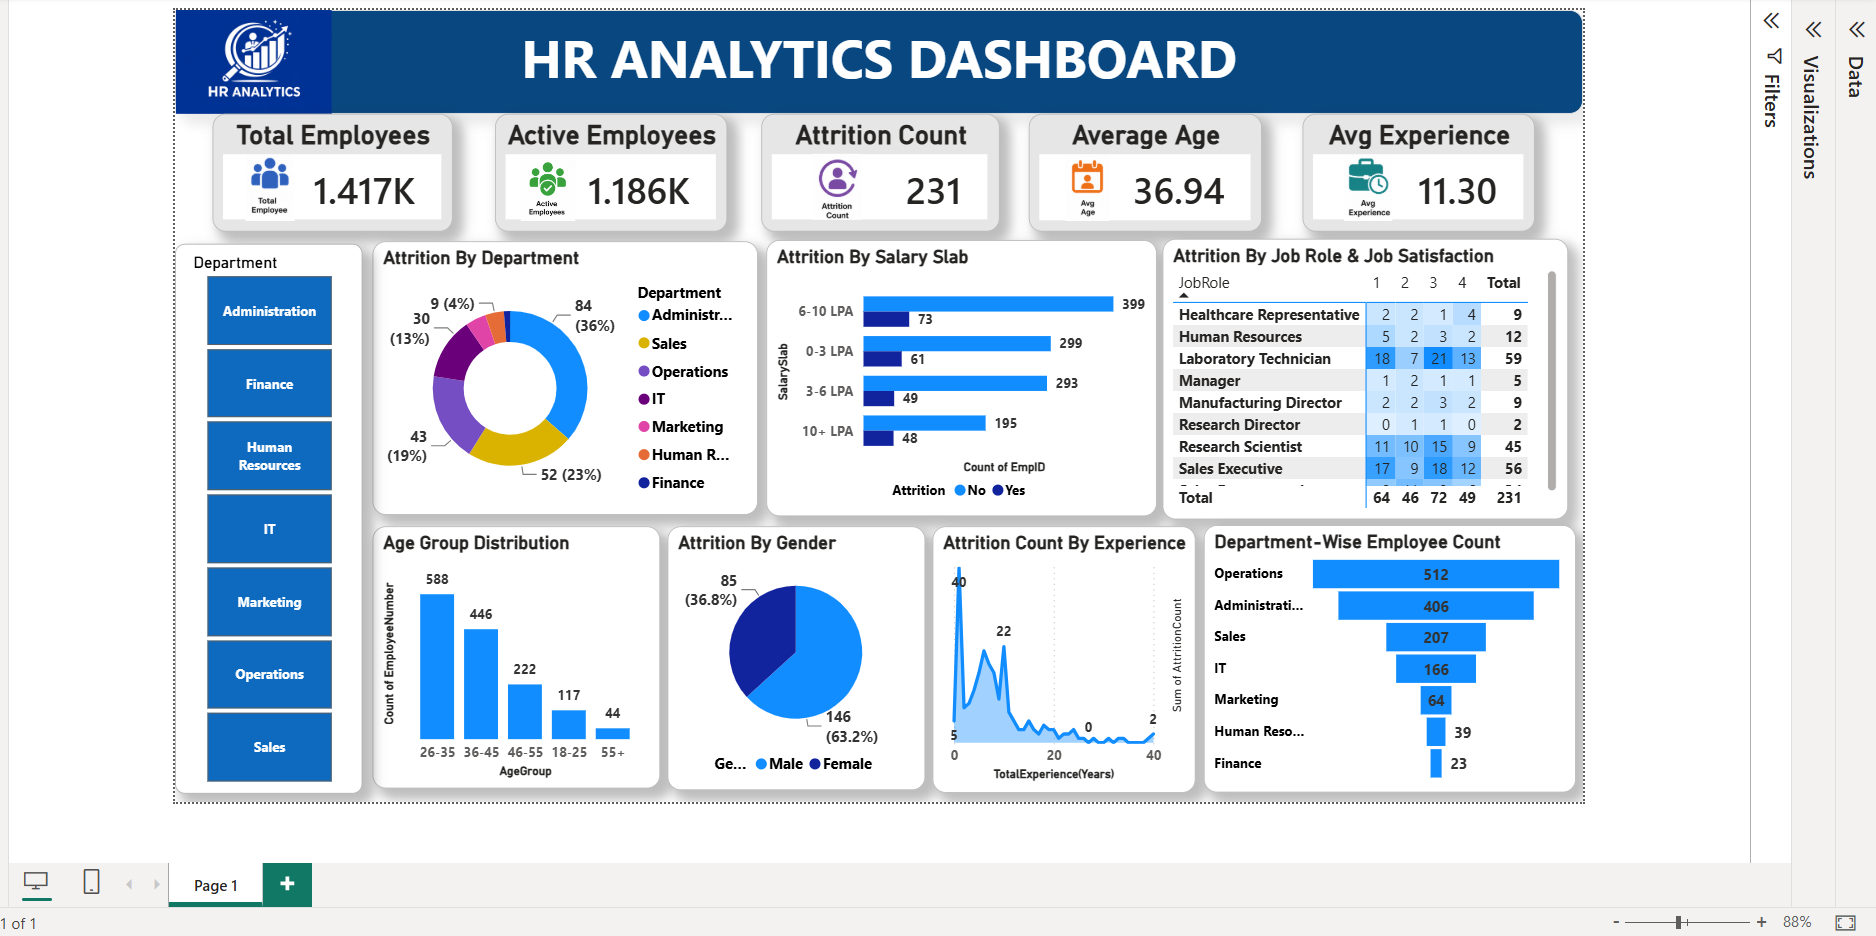

The dashboard page shown, as its layout file describes it:
{"tool":"powerbi","page":{"name":"Page 1","canvas":[1280,720],"ordinal":0},"visuals":[{"type":"textbox","box":[0,0,1280.3,94.7],"z":0},{"type":"image","box":[0,0,142.9,94.3],"z":1000},{"type":"cardVisual","title":"Total Employees","fields":{"Data":["CountNonNull(HR_Analytics-4 (1).EmpID)"]},"box":[34.3,94.7,218.2,107],"z":2000},{"type":"cardVisual","title":"Active Employees","fields":{"Data":["CountNonNull(HR_Analytics-4 (1).EmployeeNumber)"]},"box":[290.9,94.7,211.3,107],"z":3000},{"type":"cardVisual","title":"Attrition Count","fields":{"Data":["Sum(HR_Analytics-4 (1).AttritionCount)"]},"box":[532.4,94.7,216.8,107],"z":4000},{"type":"cardVisual","title":"Average Age ","fields":{"Data":["Avg(HR_Analytics-4 (1).Age)"]},"box":[776,94,212,107.3],"z":5000},{"type":"cardVisual","title":"Avg Experience","fields":{"Data":["Avg(HR_Analytics-4 (1).TotalExperience(Years))"]},"box":[1025,94.7,211.3,107],"z":6000},{"type":"donutChart","title":"Attrition By Department","fields":{"Category":["HR_Analytics-4 (1).Department"],"Y":["Sum(HR_Analytics-4 (1).AttritionCount)"]},"box":[179,210,350,249],"z":7000},{"type":"clusteredBarChart","title":"Attrition By Salary Slab","fields":{"Category":["HR_Analytics-4 (1).SalarySlab"],"Y":["CountNonNull(HR_Analytics-4 (1).EmpID)"],"Series":["HR_Analytics-4 (1).Attrition"]},"box":[537,209,355,251],"z":8000},{"type":"pivotTable","title":"Attrition By Job Role & Job Satisfaction","fields":{"Rows":["HR_Analytics-4 (1).JobRole"],"Values":["Sum(HR_Analytics-4 (1).AttritionCount)"],"Columns":["HR_Analytics-4 (1).JobSatisfaction"]},"box":[897.5,207.5,368.8,255],"z":9000},{"type":"image","box":[280.4,131.4,116.7,59.8],"z":10000},{"type":"image","box":[0,131.4,172.5,59.8],"z":11000},{"type":"image","box":[495,131,213,60],"z":12000},{"type":"image","box":[720.7,131.3,218,60],"z":13000},{"type":"image","box":[1009.2,131.7,150.8,60],"z":14000},{"type":"columnChart","title":"Age Group Distribution","fields":{"Category":["HR_Analytics-4 (1).AgeGroup"],"Y":["CountNonNull(HR_Analytics-4 (1).EmployeeNumber)"]},"box":[179,469,261.2,238.8],"z":15000},{"type":"pieChart","title":"Attrition By Gender","fields":{"Y":["Sum(HR_Analytics-4 (1).AttritionCount)"],"Category":["HR_Analytics-4 (1).Gender"]},"box":[448,469,234,240],"z":16000},{"type":"areaChart","title":"Attrition Count By Experience","fields":{"Category":["HR_Analytics-4 (1).TotalExperience(Years)"],"Y2":["Sum(HR_Analytics-4 (1).AttritionCount)"]},"box":[689,469,239,242],"z":17000},{"type":"funnel","title":"Department-Wise Employee Count","fields":{"Category":["HR_Analytics-4 (1).Department"],"Y":["CountNonNull(HR_Analytics-4 (1).EmpID)"]},"box":[935,468.6,338.6,242.9],"z":18000},{"type":"slicer","fields":{"Values":["HR_Analytics-4 (1).Department"]},"box":[0,212.9,170,500],"z":19000}]}

Visuals, with their boxes on the page's 1280x720 design canvas (x1, y1, x2, y2). These are canvas units, not pixel positions in the 1876x936 screenshot, which may show the page scaled, cropped or inside an application window:
textbox: bbox=(0, 0, 1280, 95)
image: bbox=(0, 0, 143, 94)
"Total Employees" cardVisual: bbox=(34, 95, 252, 202)
"Active Employees" cardVisual: bbox=(291, 95, 502, 202)
"Attrition Count" cardVisual: bbox=(532, 95, 749, 202)
"Average Age " cardVisual: bbox=(776, 94, 988, 201)
"Avg Experience" cardVisual: bbox=(1025, 95, 1236, 202)
"Attrition By Department" donutChart: bbox=(179, 210, 529, 459)
"Attrition By Salary Slab" clusteredBarChart: bbox=(537, 209, 892, 460)
"Attrition By Job Role & Job Satisfaction" pivotTable: bbox=(898, 208, 1266, 462)
image: bbox=(280, 131, 397, 191)
image: bbox=(0, 131, 172, 191)
image: bbox=(495, 131, 708, 191)
image: bbox=(721, 131, 939, 191)
image: bbox=(1009, 132, 1160, 192)
"Age Group Distribution" columnChart: bbox=(179, 469, 440, 708)
"Attrition By Gender" pieChart: bbox=(448, 469, 682, 709)
"Attrition Count By Experience" areaChart: bbox=(689, 469, 928, 711)
"Department-Wise Employee Count" funnel: bbox=(935, 469, 1274, 712)
slicer - HR_Analytics-4 (1).Department: bbox=(0, 213, 170, 713)
